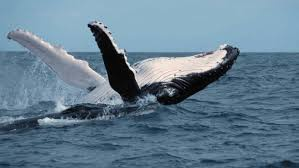humpback: (65, 42, 241, 115)
